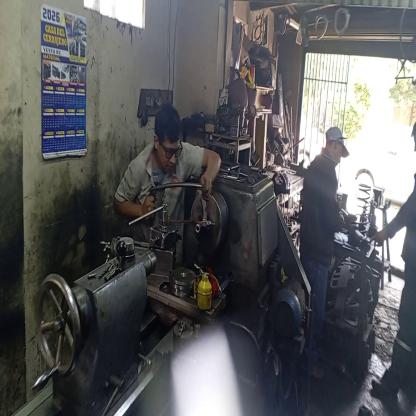lentes: (157, 134, 183, 163)
